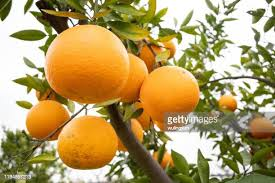orange: (43, 25, 128, 101), (138, 59, 200, 119), (55, 118, 119, 167), (24, 99, 70, 140)
